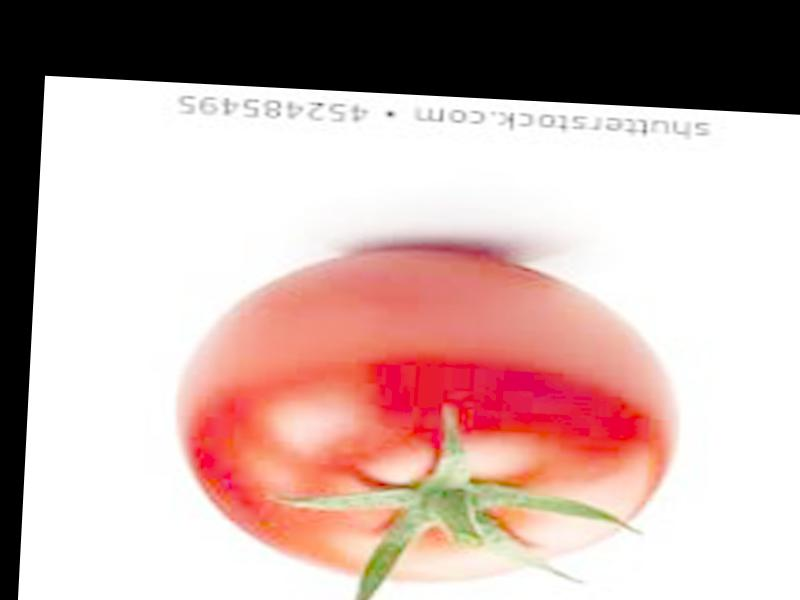Tomato: (174, 234, 680, 594)
